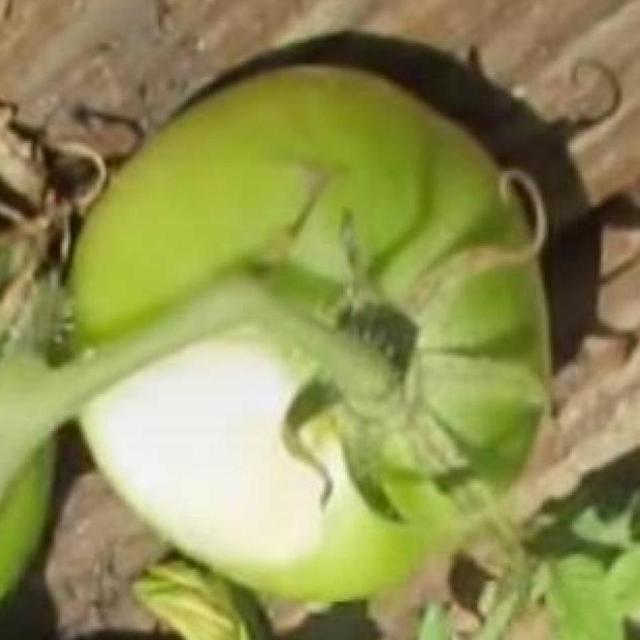Sunscald Fruit: (40, 222, 222, 376)
